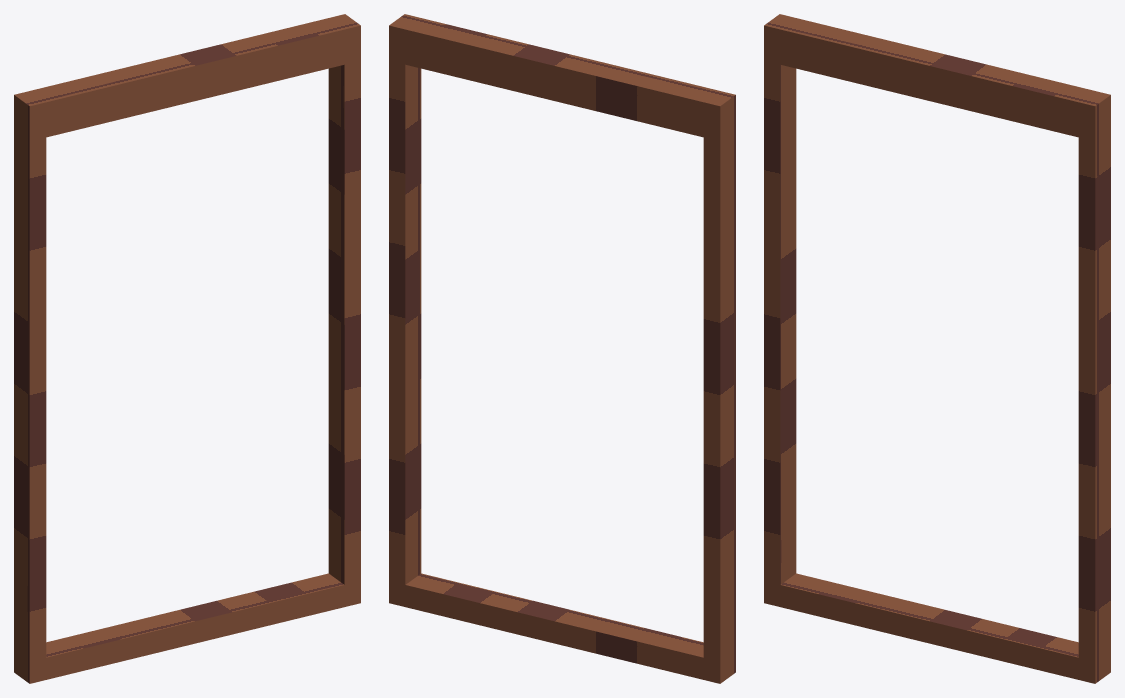
The model's file is doorframe.fbx.
3 views of the same model, side by side, from view 1: azimuth 30°, elevation 25°; view 2: azimuth 150°, elevation 25°; view 3: azimuth 330°, elevation 25° (orthographic).
Visible parts, largest first — view 1: Cube.013; view 2: Cube.013; view 3: Cube.013.
Boxes of the visible parts, <box> form: Cube.013: <box>14,14,360,683</box>; Cube.013: <box>389,14,735,683</box>; Cube.013: <box>764,14,1110,683</box>.
Size of the model in its own units: 173 by 289 by 14.26.
Materials: 1 (1 with a texture image).
